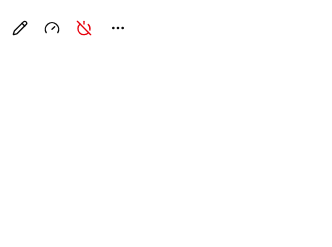
Test: channel row actions › Sora retains Fetch Models with upstream update visibility false
Click the button named "Open menu": (118, 28) x1=102 y1=12 x2=134 y2=44
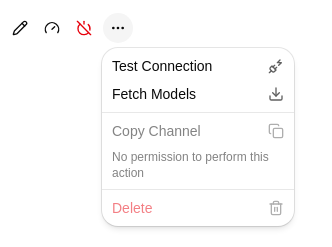
Expected: the menu item "Fetch Models" is shown, x1=112 y1=86 x2=284 y2=102
